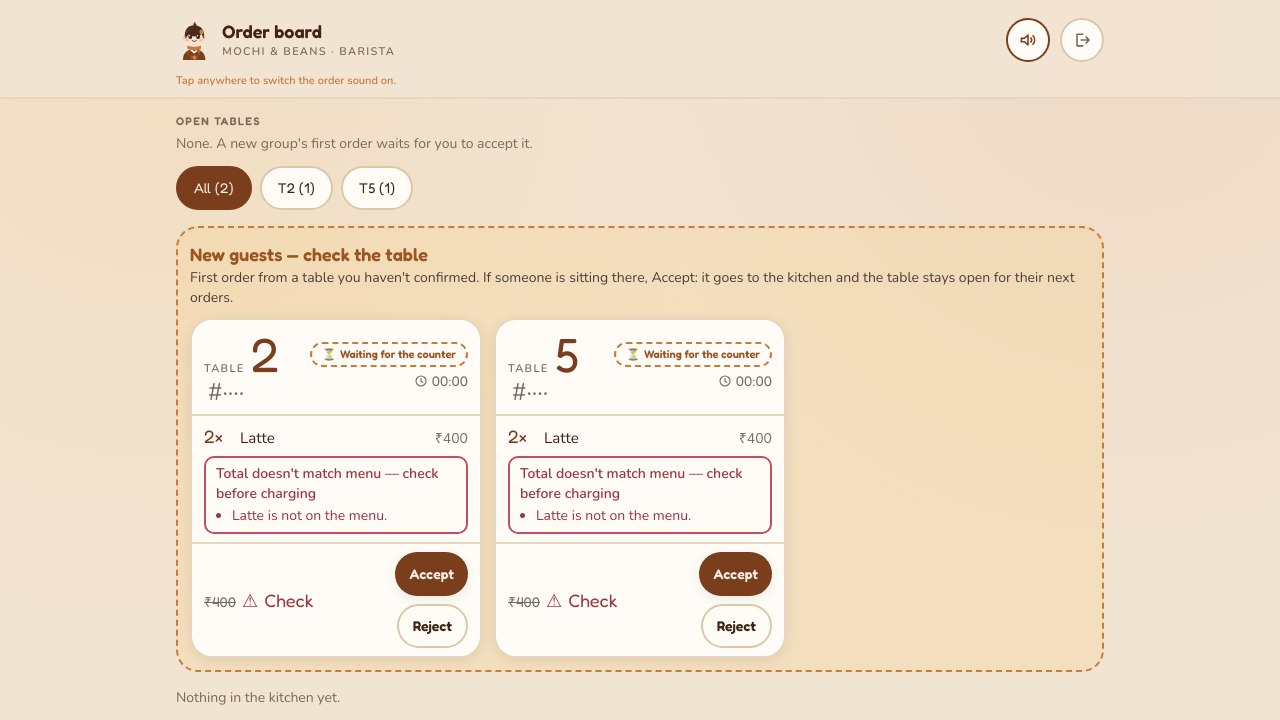
Test: staff board: new guests › numbers a new guest's order only once it is accepted
Click the button with aria-label "Reject order" at (736, 626), box [701,604,772,648]
(page scrolled)
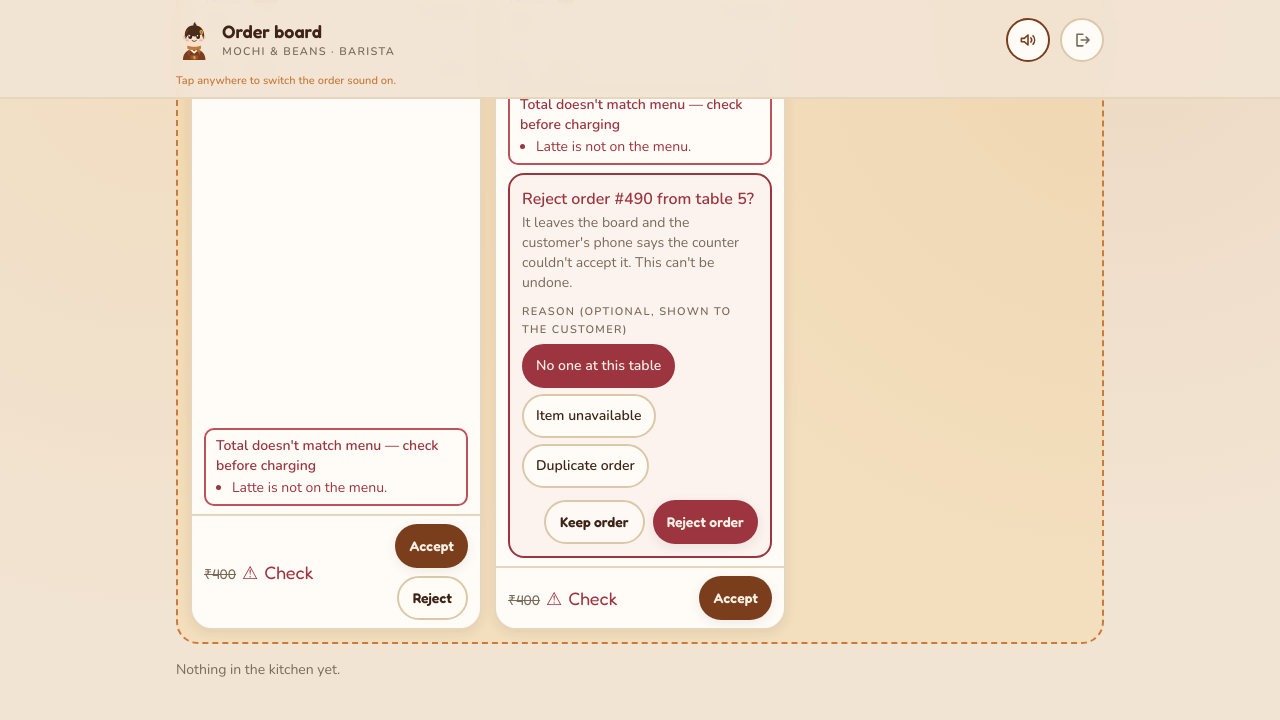
Click the button "Reject order" at (705, 522), box [653,500,758,544]
(page scrolled)
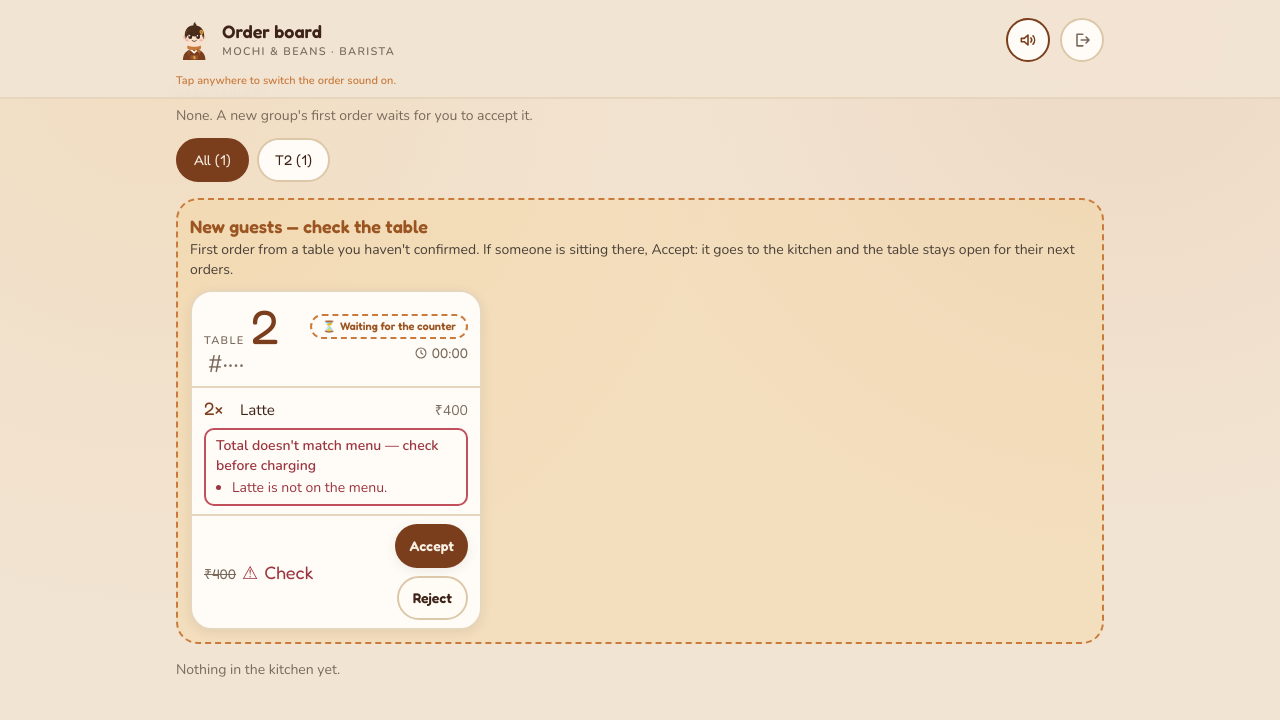
Click the button "Accept" at (432, 546), box [395,524,468,568]
(page scrolled)
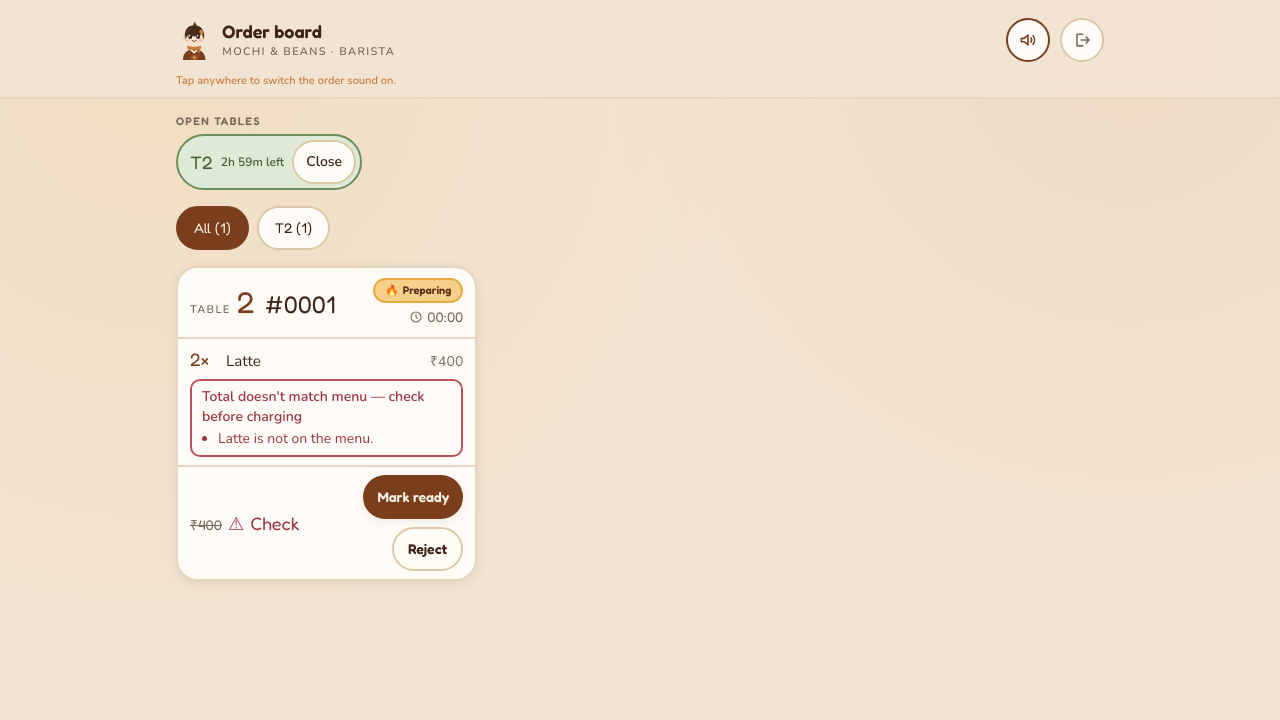
Check: the text "#0001" is shown, box [265,293,335,317]
